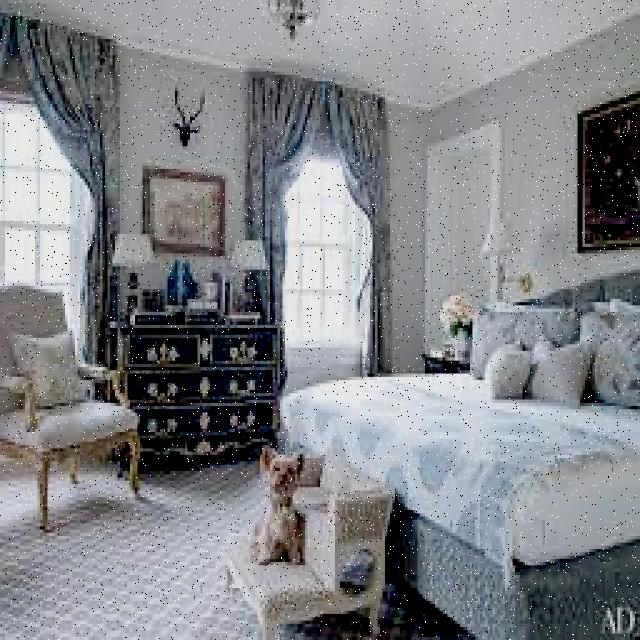bed: (278, 289, 638, 640)
